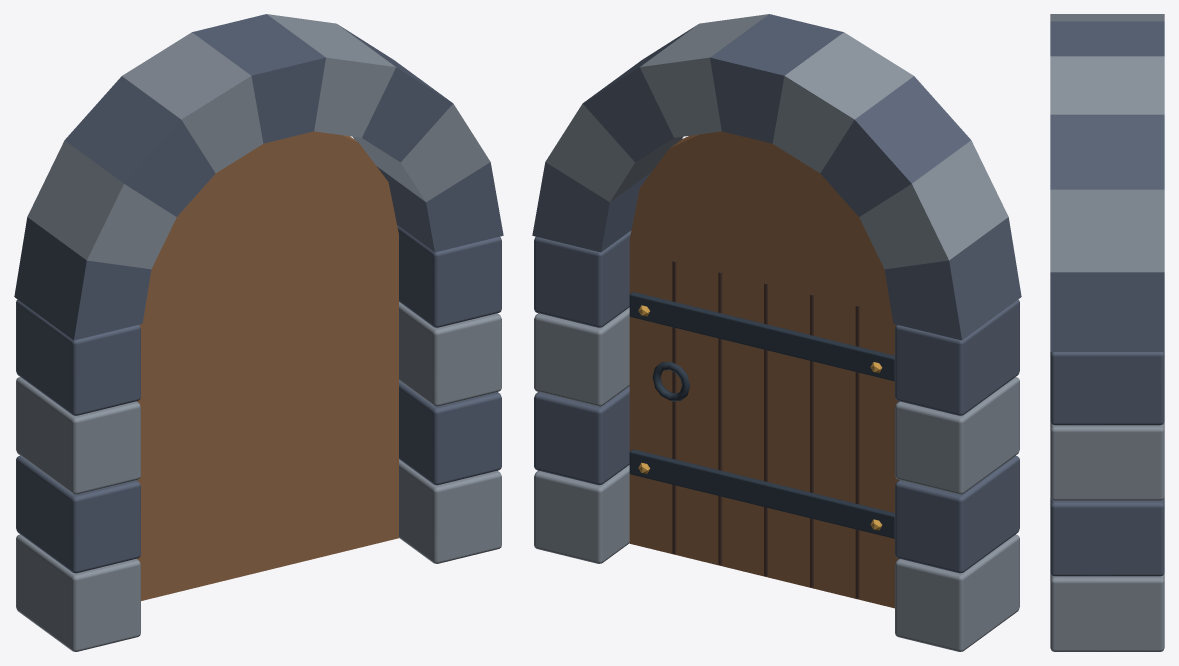
The model's file is arched-oak-door.glb.
3 views of the same model, side by side, from view 1: azimuth 30°, elevation 25°; view 2: azimuth 150°, elevation 25°; view 3: azimuth 270°, elevation 25° (orthographic). The views are drawn at different scales.
Parts seen in each view (by area): view 1: oak-door, arch-stone-6, arch-stone-7, arch-stone-5, arch-stone-8, pier--0.84-2, pier--0.84-1, pier--0.84-0, pier--0.84-3, arch-stone-4, pier-0.84-2, pier-0.84-0 (+6 smaller); view 2: oak-door, arch-stone-6, arch-stone-7, arch-stone-5, arch-stone-8, pier--0.84-2, pier--0.84-1, pier--0.84-0, pier--0.84-3, arch-stone-4, pier-0.84-2, pier-0.84-1 (+14 smaller); view 3: arch-stone-1, arch-stone-0, pier-0.84-1, pier-0.84-0, pier-0.84-2, arch-stone-2, pier-0.84-3, arch-stone-3, arch-stone-4, arch-stone-5.
Part boxes in pixels (x1,y1,x2,y2): oak-door: [137, 131, 398, 600]; arch-stone-6: [65, 76, 215, 216]; arch-stone-7: [27, 140, 176, 269]; arch-stone-5: [122, 32, 263, 173]; arch-stone-8: [14, 217, 151, 340]; pier--0.84-2: [16, 377, 140, 494]; pier--0.84-1: [16, 455, 140, 573]; pier--0.84-0: [16, 534, 140, 651]; pier--0.84-3: [16, 299, 140, 415]; arch-stone-4: [192, 14, 325, 143]; pier-0.84-2: [399, 302, 501, 406]; pier-0.84-0: [399, 459, 501, 563]; oak-door: [629, 131, 898, 608]; arch-stone-6: [820, 76, 970, 216]; arch-stone-7: [859, 140, 1008, 269]; arch-stone-5: [772, 32, 913, 173]; arch-stone-8: [884, 217, 1021, 340]; pier--0.84-2: [895, 377, 1019, 494]; pier--0.84-1: [895, 455, 1019, 573]; pier--0.84-0: [895, 534, 1019, 651]; pier--0.84-3: [895, 299, 1019, 415]; arch-stone-4: [710, 14, 843, 143]; pier-0.84-2: [534, 307, 629, 406]; pier-0.84-1: [534, 386, 629, 485]; arch-stone-1: [1050, 189, 1164, 272]; arch-stone-0: [1050, 272, 1164, 351]; pier-0.84-1: [1050, 497, 1164, 576]; pier-0.84-0: [1050, 573, 1164, 651]; pier-0.84-2: [1050, 422, 1164, 500]; arch-stone-2: [1050, 114, 1164, 189]; pier-0.84-3: [1050, 352, 1164, 425]; arch-stone-3: [1050, 56, 1164, 114]; arch-stone-4: [1050, 21, 1164, 56]; arch-stone-5: [1050, 14, 1164, 21].
Size of the model in its own units: 2 by 2.38 by 0.48.
